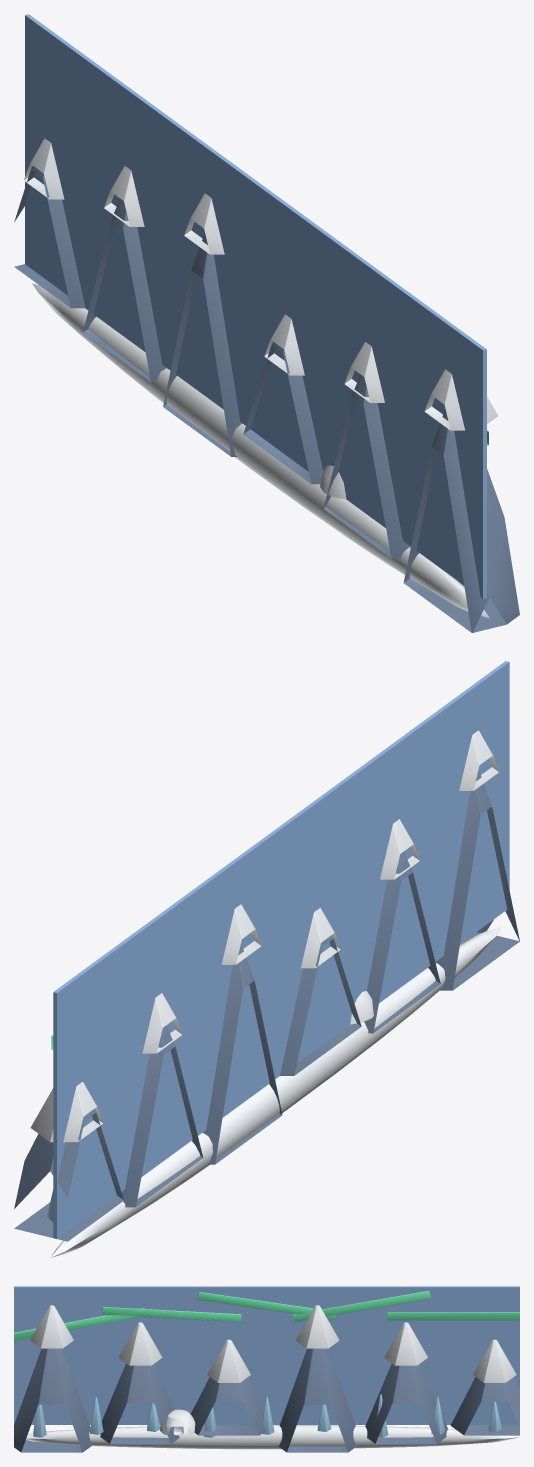
Rendered from BackdropIce.fbx.
The picture shows the model from 3 angles, top to bottom: view 1: azimuth 30°, elevation 25°; view 2: azimuth 150°, elevation 25°; view 3: azimuth 270°, elevation 25°; orthographic projection. The views are drawn at different scales.
Parts seen in each view (by area): view 1: BackdropIce; view 2: BackdropIce; view 3: BackdropIce.
Boxes of the visible parts, left/top/right/bottom form: BackdropIce: left=14, top=14, right=519, bottom=632; BackdropIce: left=14, top=661, right=519, bottom=1257; BackdropIce: left=14, top=1286, right=519, bottom=1452.
Size of the model in its own units: 550 by 2800 by 8000.
